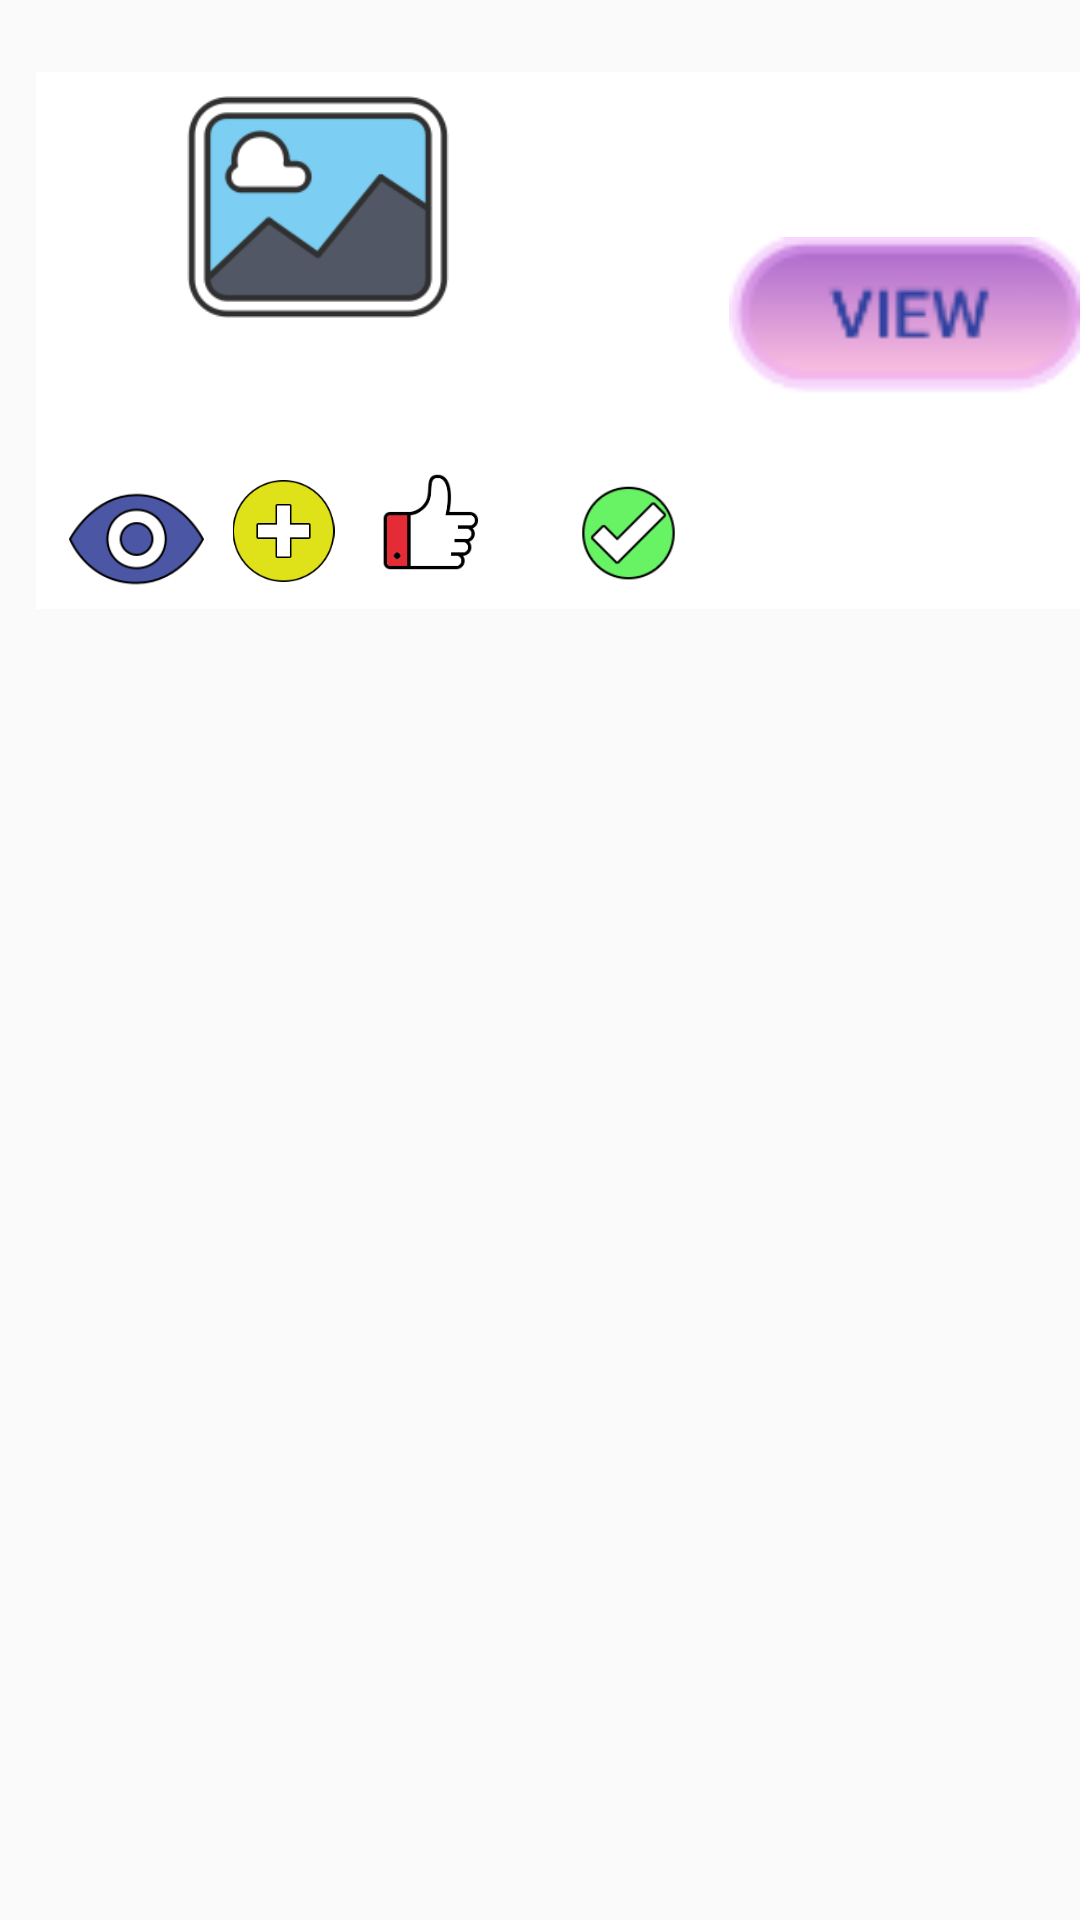

Icon bounding boxes for this 1080*1920 phone screenshot, format (x1, y1, x2, y2):
accept: (582, 486, 675, 580)
picc: (187, 96, 449, 318)
recomm: (383, 474, 478, 570)
view: (69, 493, 204, 585)
